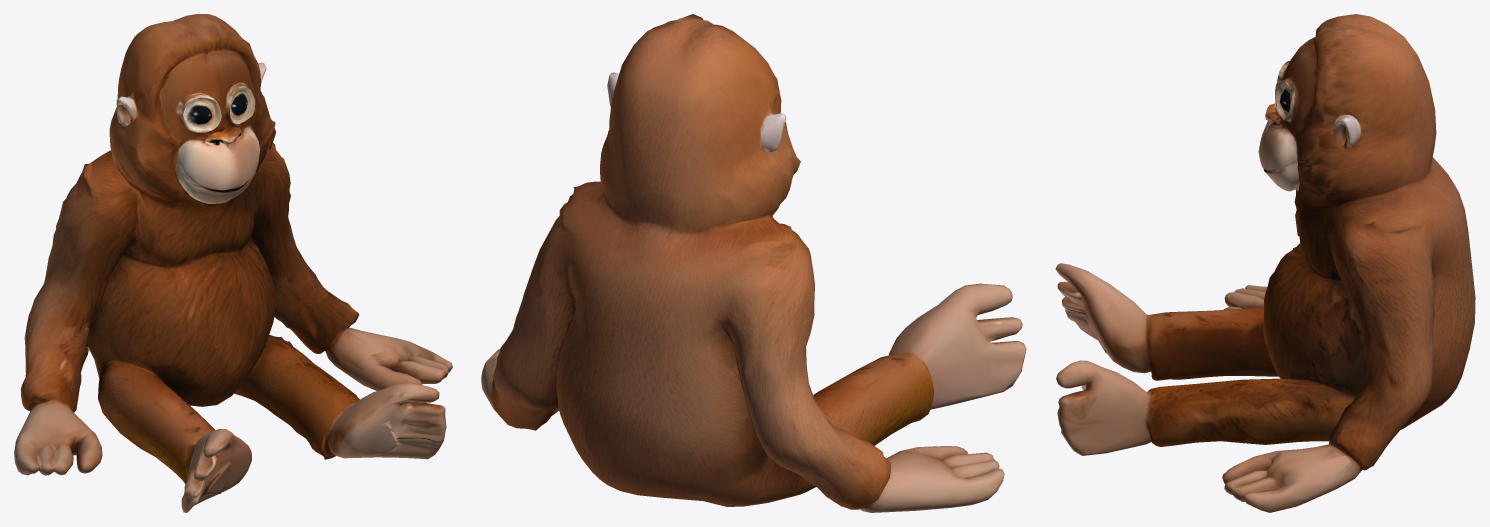
The model's file is viral_monkey_plush_toy.glb.
3 views of the same model, side by side, from view 1: azimuth 30°, elevation 25°; view 2: azimuth 150°, elevation 25°; view 3: azimuth 270°, elevation 25° (orthographic). The views are drawn at different scales.
Visible parts, largest first — view 1: model; view 2: model; view 3: model.
Boxes of the visible parts, bbox=[...] form: model: bbox=[14, 14, 452, 512]; model: bbox=[481, 14, 1026, 512]; model: bbox=[1055, 14, 1475, 512].
Bounding box in the file's own units: 1.87 × 1.6 × 1.55.
Materials: 1 (1 with a texture image).
